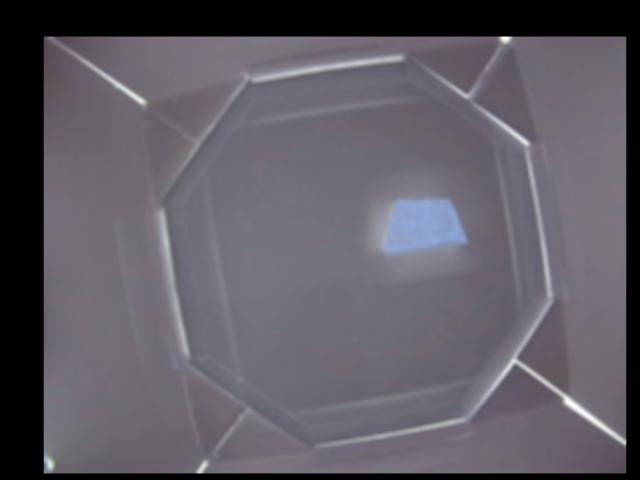China: (382, 199, 468, 259)
